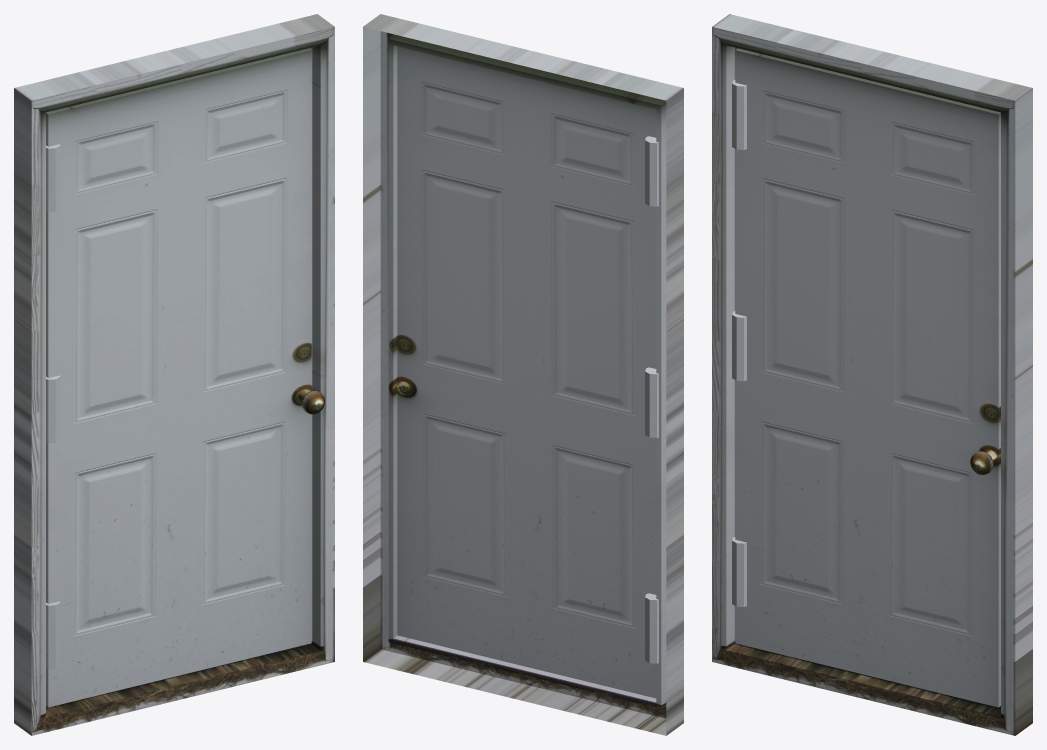
Rendered from door.fbx.
3 views of the same model, side by side, from view 1: azimuth 30°, elevation 25°; view 2: azimuth 150°, elevation 25°; view 3: azimuth 330°, elevation 25° (orthographic).
Parts seen in each view (by area): view 1: Cube; view 2: Cube; view 3: Cube.
Boxes of the visible parts, x1,y1,x2,y2 form: Cube: (14, 14, 334, 735); Cube: (363, 14, 683, 735); Cube: (712, 14, 1032, 735).
Bounding box in the file's own units: 100 × 200 × 16.09.
